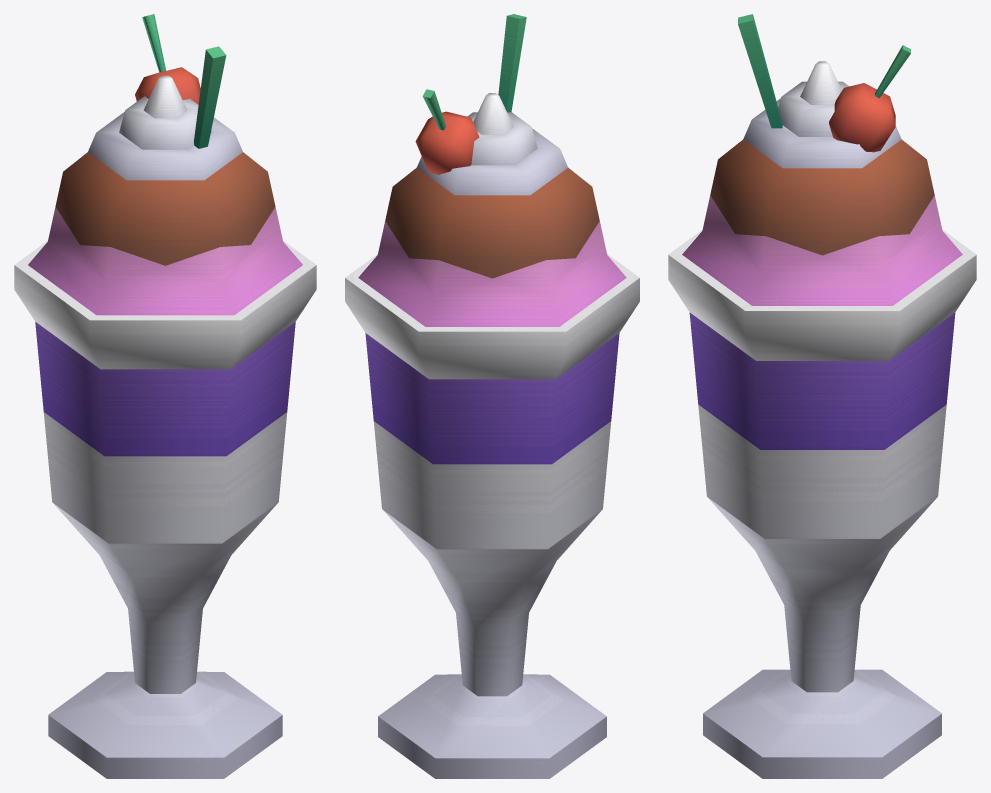
File: sundae.glb
3 views of the same model, side by side, from view 1: azimuth 30°, elevation 25°; view 2: azimuth 150°, elevation 25°; view 3: azimuth 270°, elevation 25° (orthographic). The views are drawn at different scales.
Parts seen in each view (by area): view 1: sundae, straw, cherry; view 2: sundae, cherry, straw; view 3: sundae, cherry, straw.
Boxes of the visible parts, x1,y1,x2,y2 form: sundae: (14,75,316,778); straw: (194,46,226,148); cherry: (135,14,200,104); sundae: (345,93,639,778); cherry: (415,89,479,174); straw: (498,14,526,112); sundae: (668,61,976,778); cherry: (829,45,910,152); straw: (738,14,782,128).
Bounding box in the file's own units: 0.2232 × 0.6679 × 0.2577.
1 material, 1 textured.
